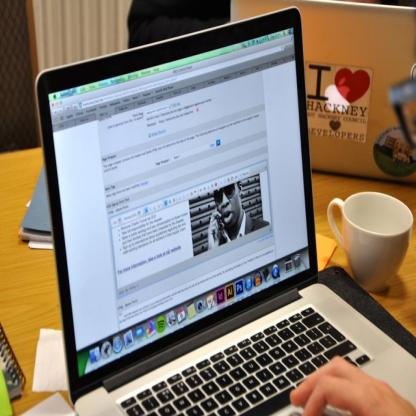board: (34, 3, 416, 415)
